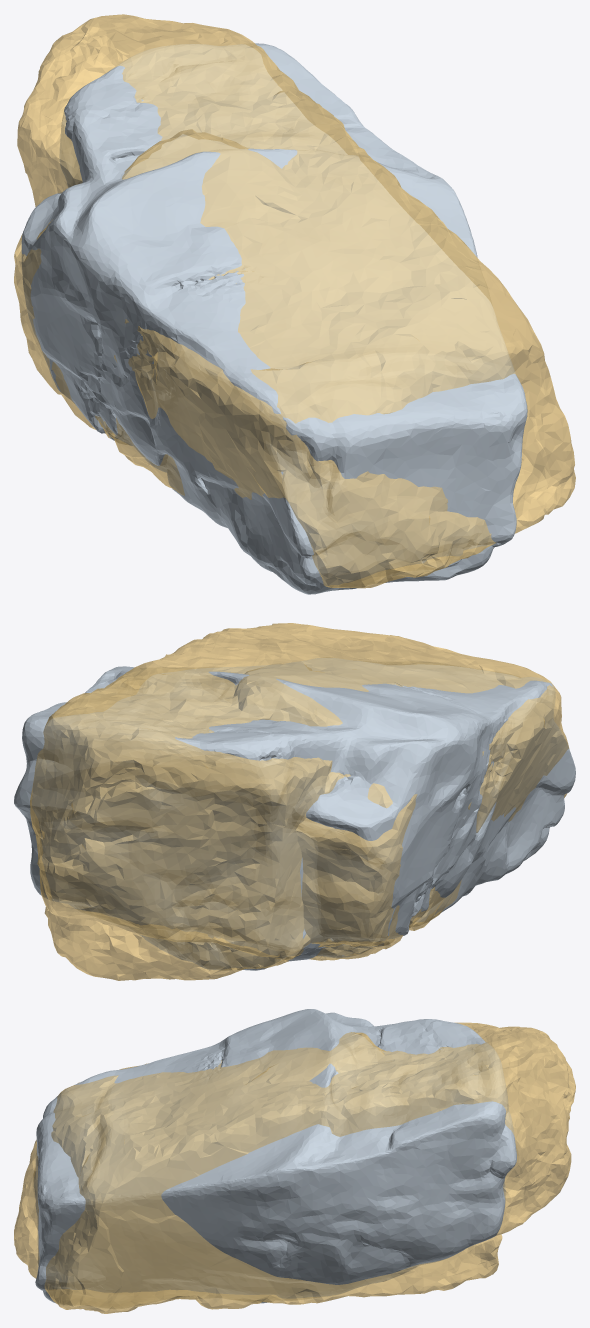
The picture shows the model from 3 angles, top to bottom: view 1: azimuth 30°, elevation 25°; view 2: azimuth 150°, elevation 25°; view 3: azimuth 270°, elevation 25°; orthographic projection. The views are drawn at different scales.
Visible parts, largest first — view 1: imagination, truth; view 2: imagination, truth; view 3: imagination, truth.
Part boxes in pixels (bbox=[...]): imagination: bbox=[21, 43, 527, 594]; truth: bbox=[14, 14, 575, 588]; imagination: bbox=[14, 657, 575, 970]; truth: bbox=[30, 623, 569, 980]; imagination: bbox=[33, 1009, 516, 1308]; truth: bbox=[14, 1022, 575, 1313].
Bounding box in the file's own units: 0.7218 × 0.6124 × 1.25.
